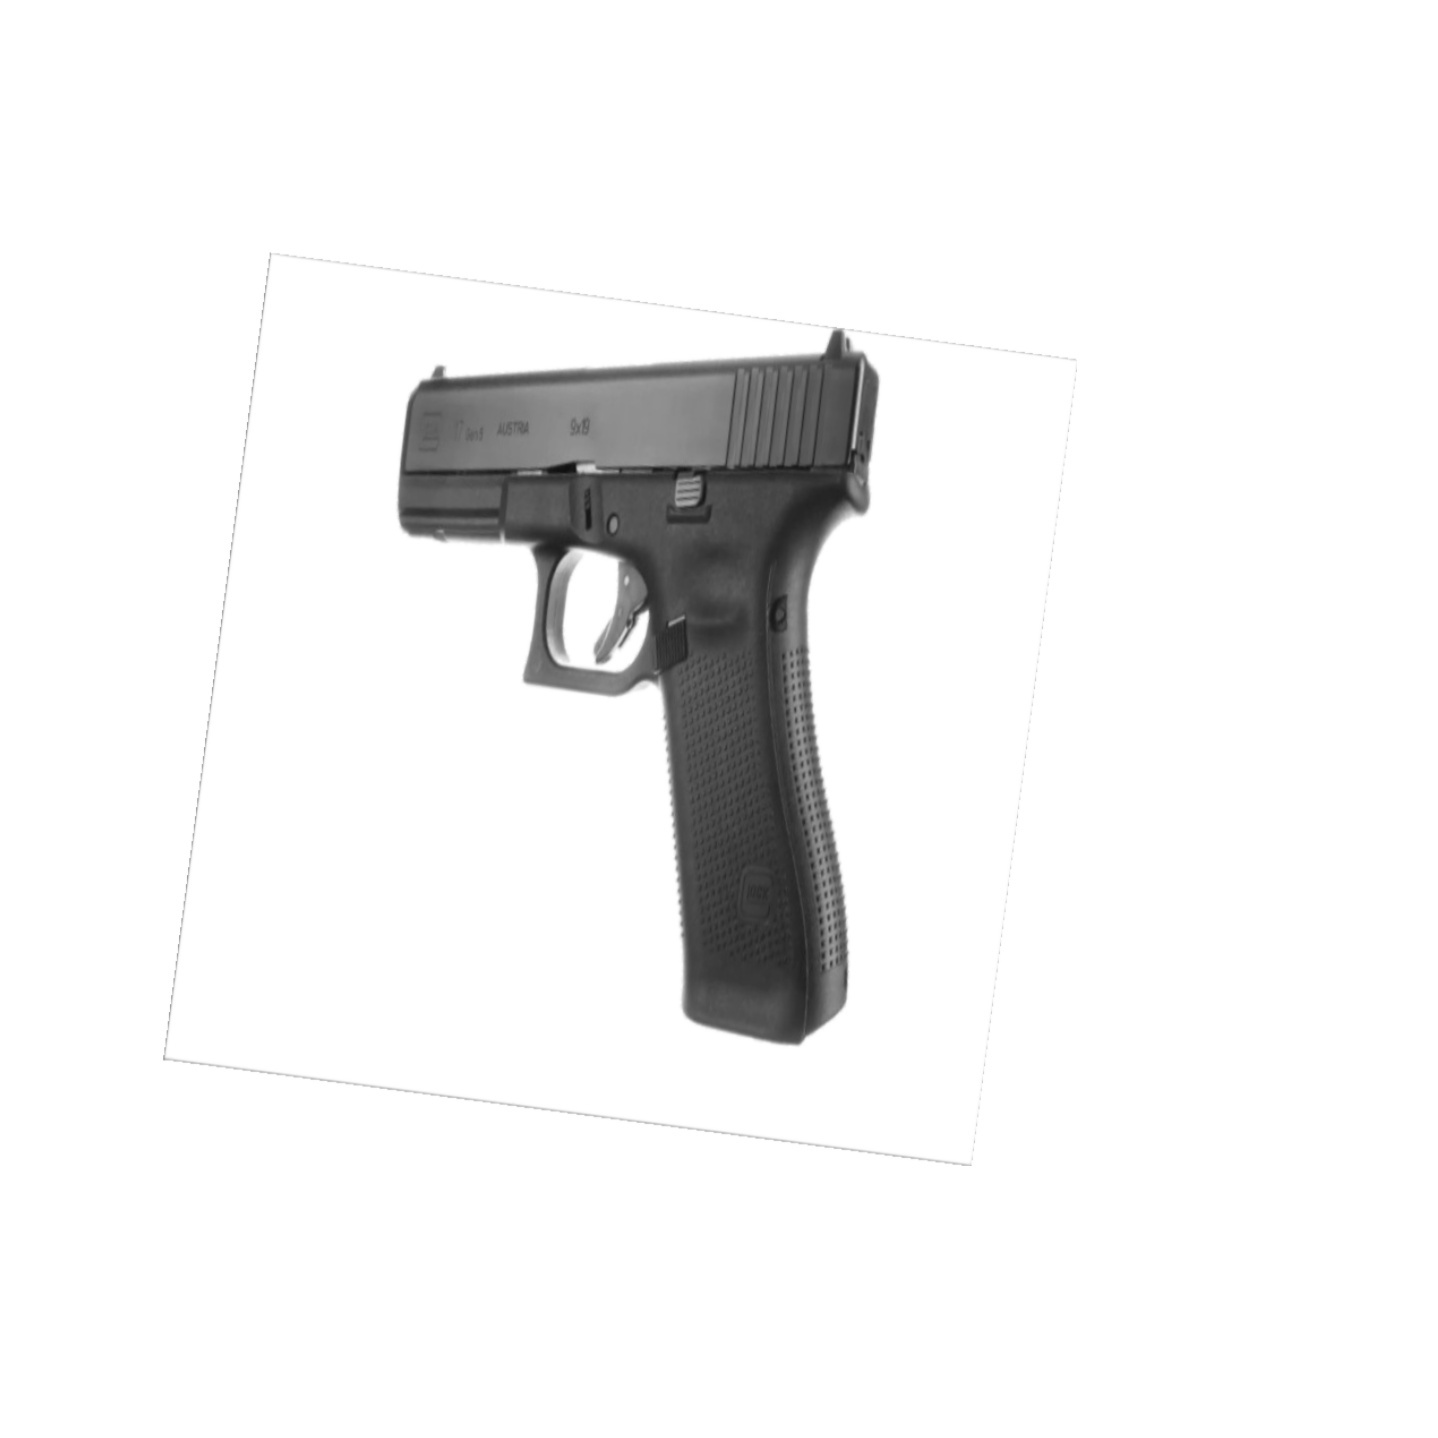gun: (374, 327, 915, 1057)
